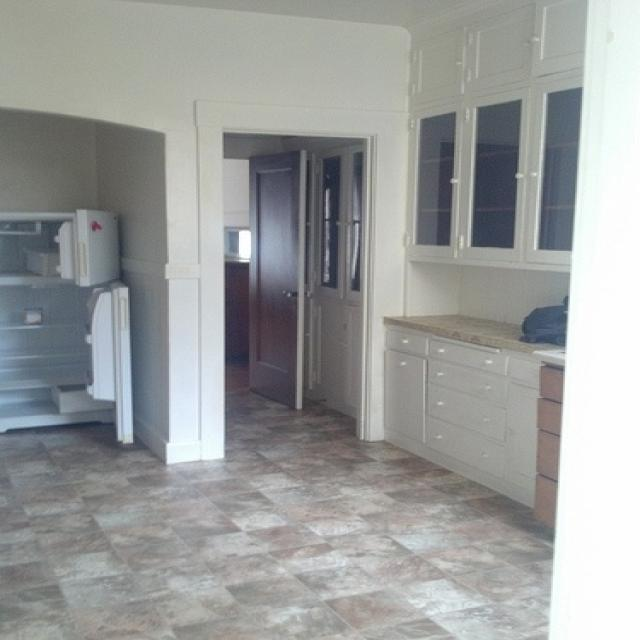door: (183, 97, 397, 465)
